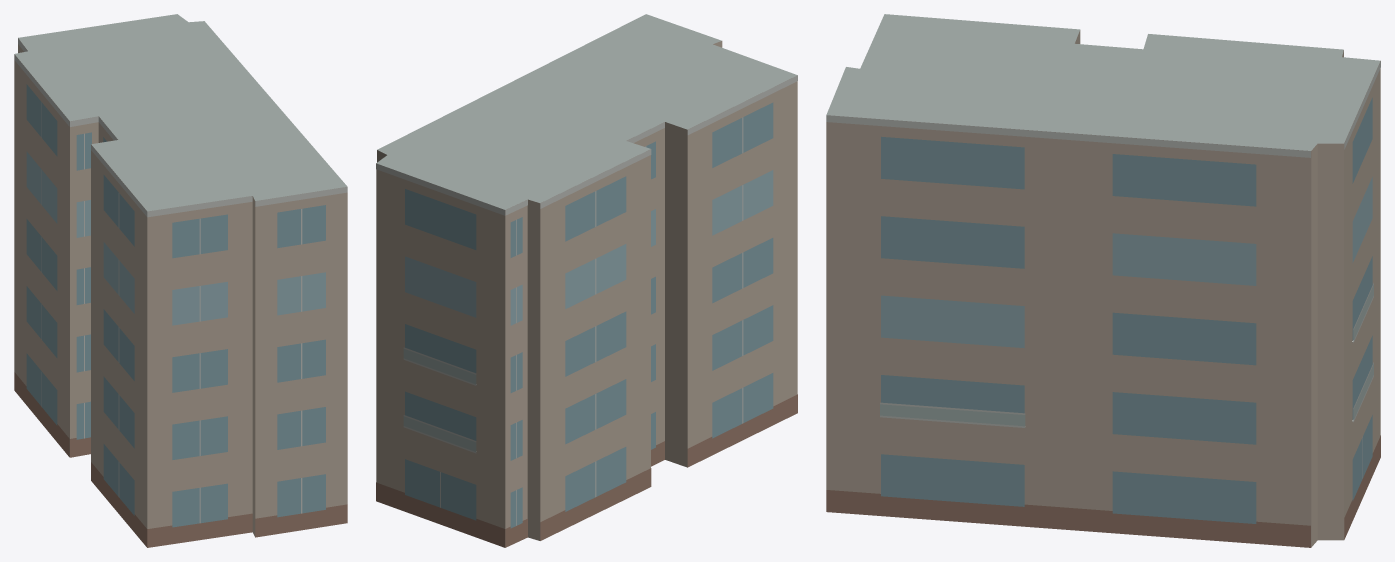
Rendered from survey-upis-33011217.glb.
The picture shows the model from 3 angles, left to right: view 1: azimuth 30°, elevation 25°; view 2: azimuth 150°, elevation 25°; view 3: azimuth 270°, elevation 25°; orthographic projection. The views are drawn at different scales.
Parts seen in each view (by area): view 1: survey-upis-33011217.tmp; view 2: survey-upis-33011217.tmp; view 3: survey-upis-33011217.tmp.
Part boxes in pixels (x1,y1,x2,y2): survey-upis-33011217.tmp: [14, 14, 347, 547]; survey-upis-33011217.tmp: [376, 14, 797, 547]; survey-upis-33011217.tmp: [826, 14, 1380, 547].
Size of the model in its own units: 10.39 by 14.02 by 17.76.
